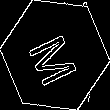M_NE: (25, 24, 85, 86)
